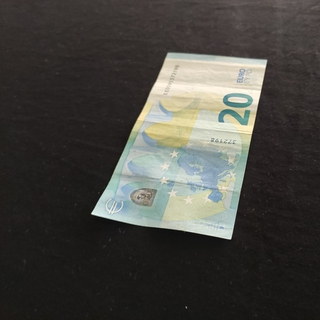20EUROBack: (90, 51, 268, 240)
